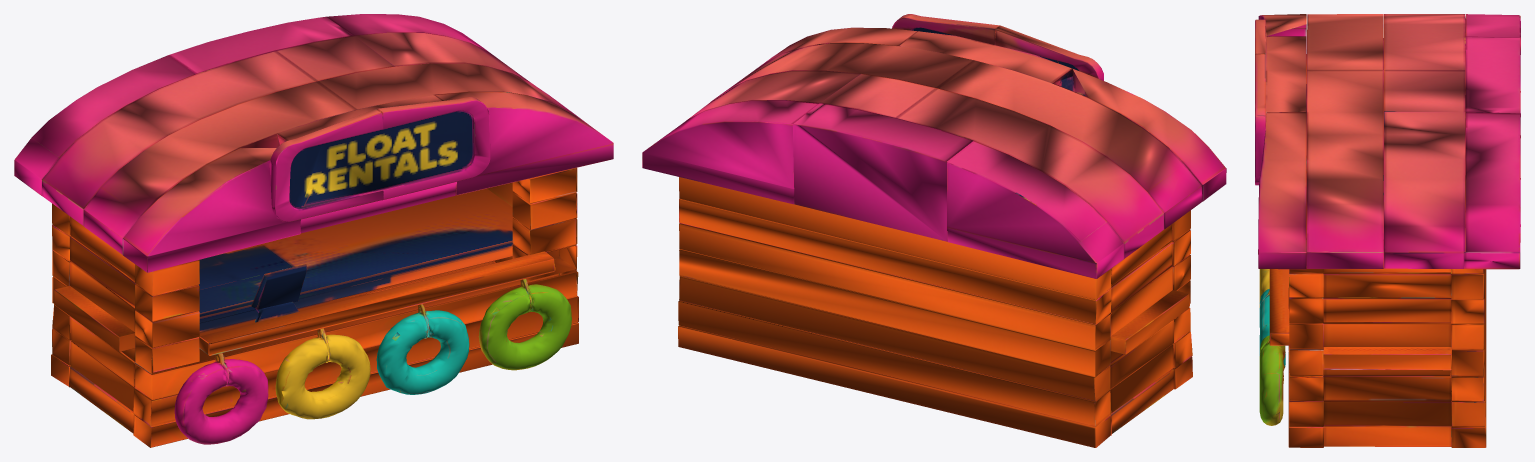
Rendered from float-hut.fbx.
3 renders of one model, left to right at view 1: azimuth 30°, elevation 25°; view 2: azimuth 150°, elevation 25°; view 3: azimuth 270°, elevation 25°, orthographic. The views are drawn at different scales.
Visible parts, largest first — view 1: Mesh_0; view 2: Mesh_0; view 3: Mesh_0.
Part boxes in pixels (x1,y1,x2,y2): Mesh_0: (14,14,613,447); Mesh_0: (642,14,1226,447); Mesh_0: (1255,14,1520,447).
Size of the model in its own units: 95.36 by 58.3 by 47.8.
1 material, 1 textured.
